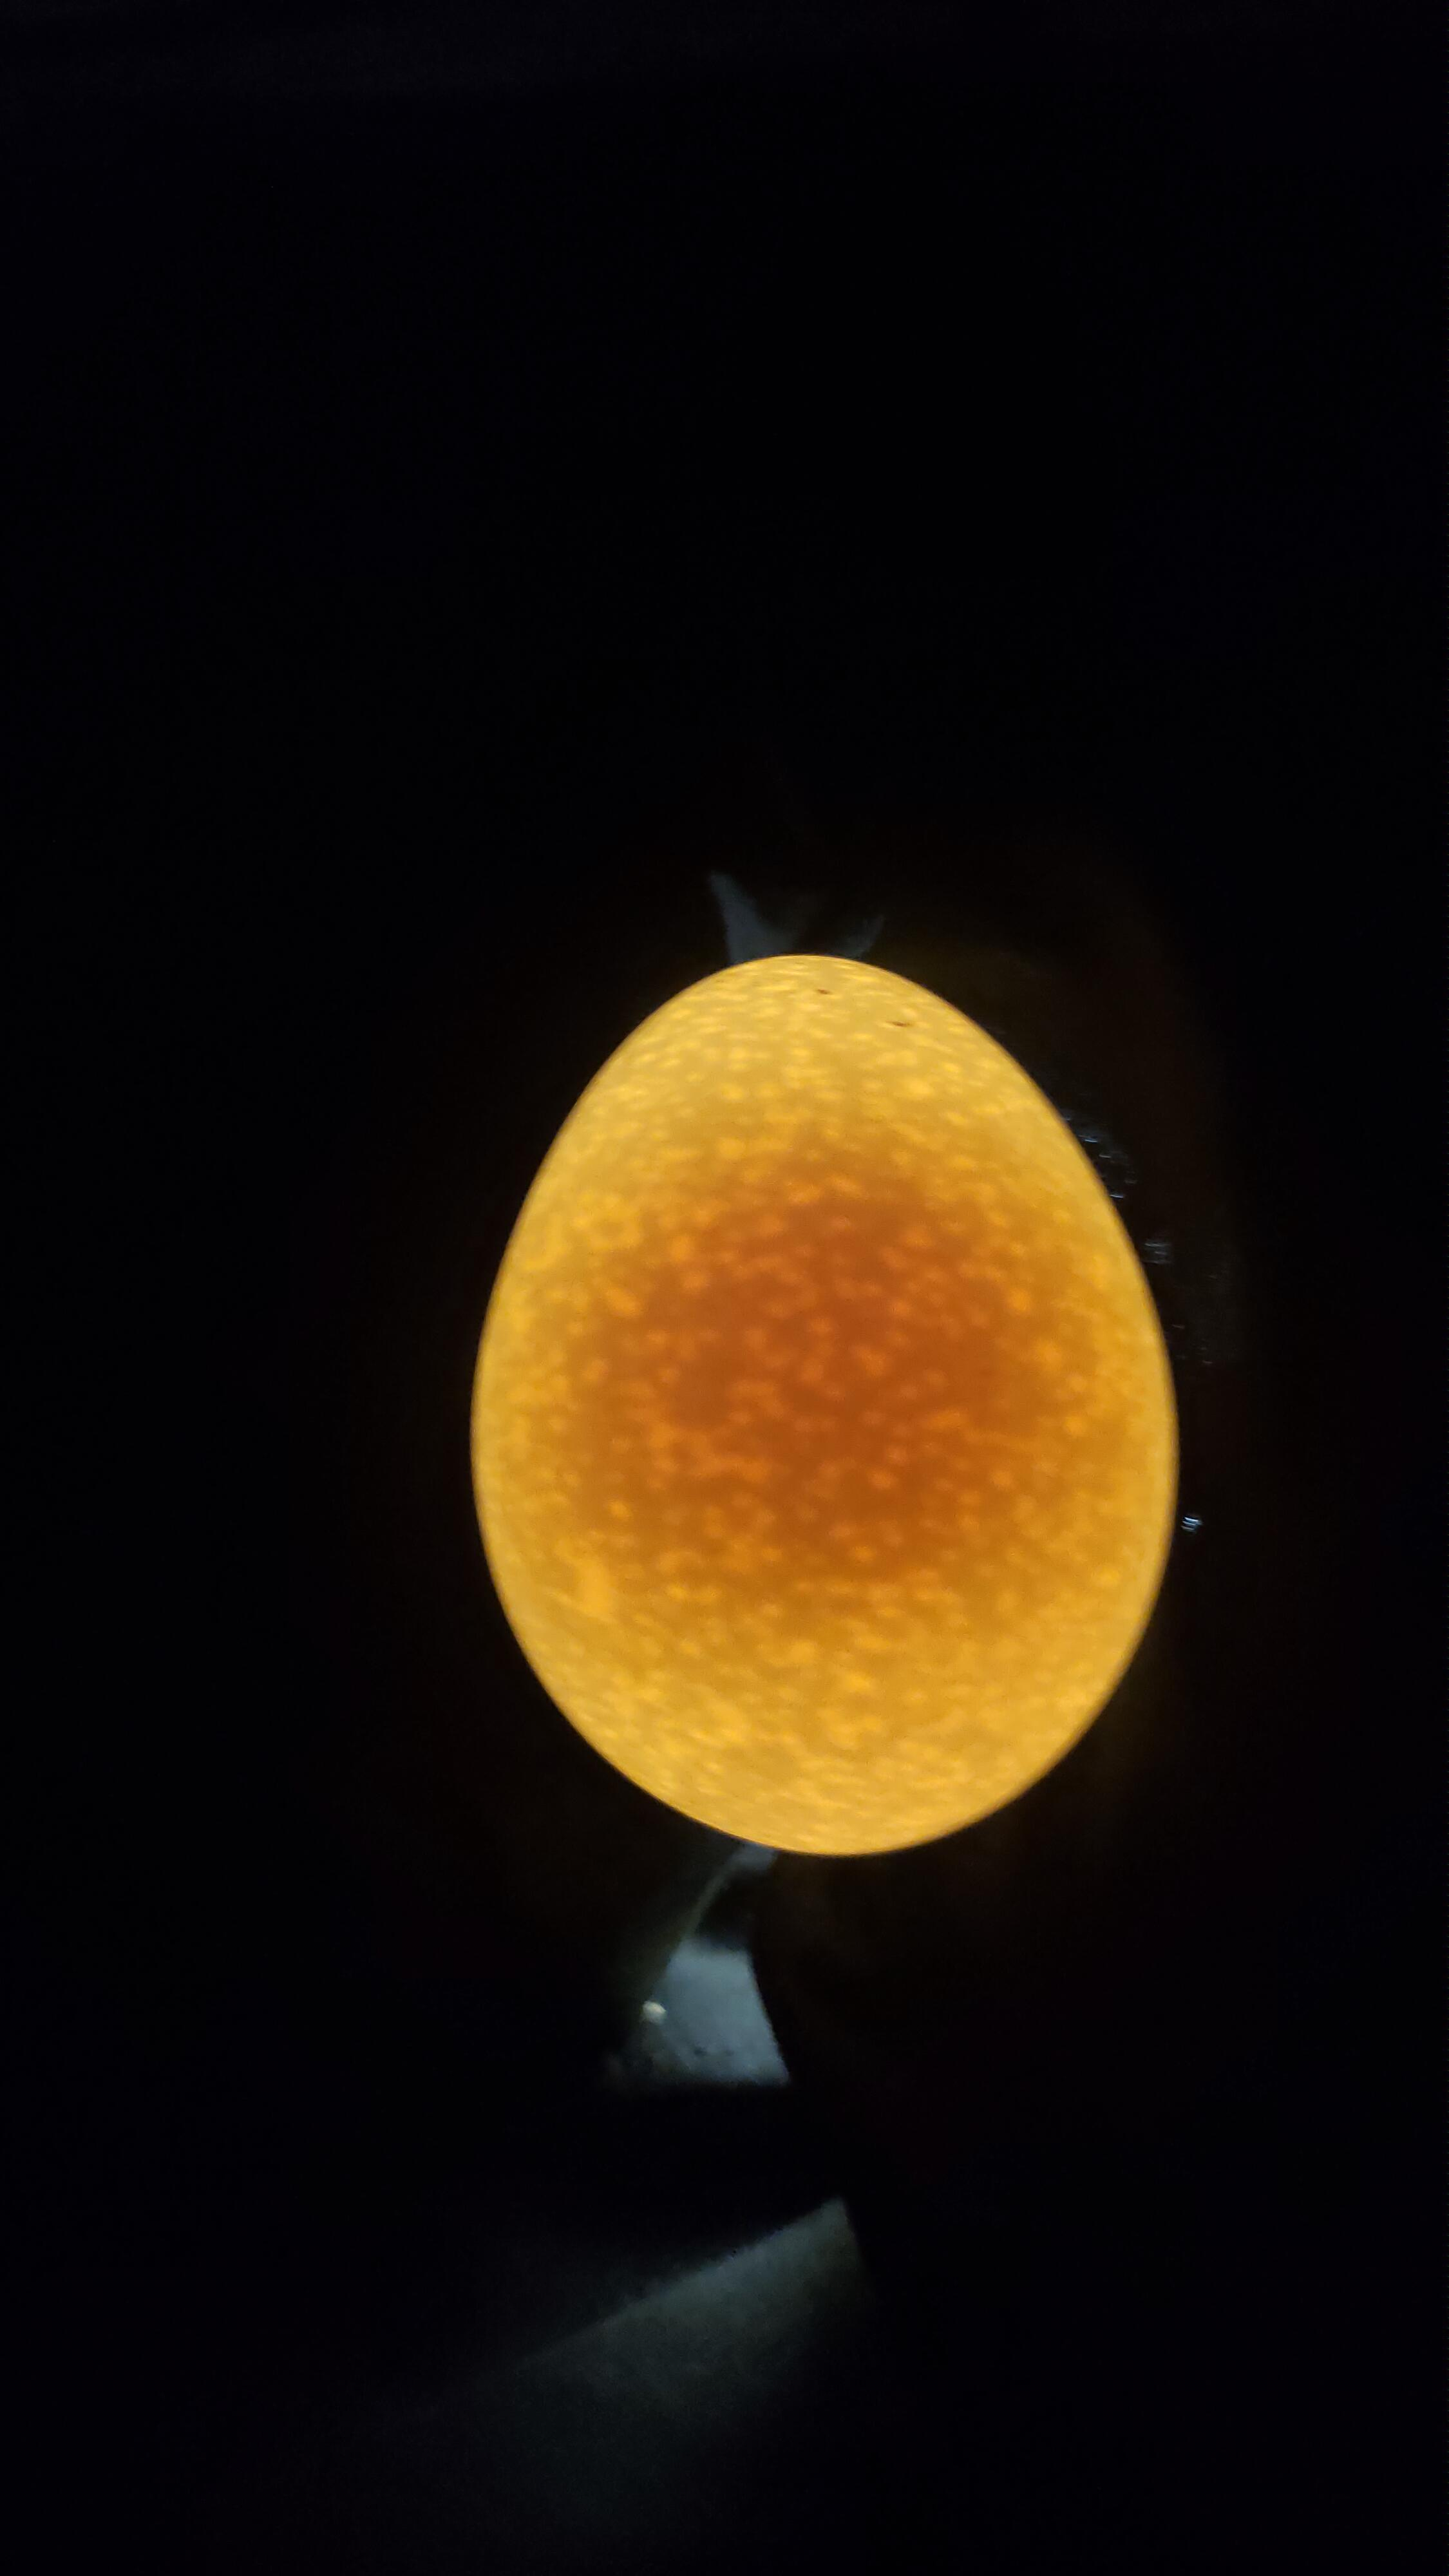A - Good: (444, 922, 1224, 1893)
